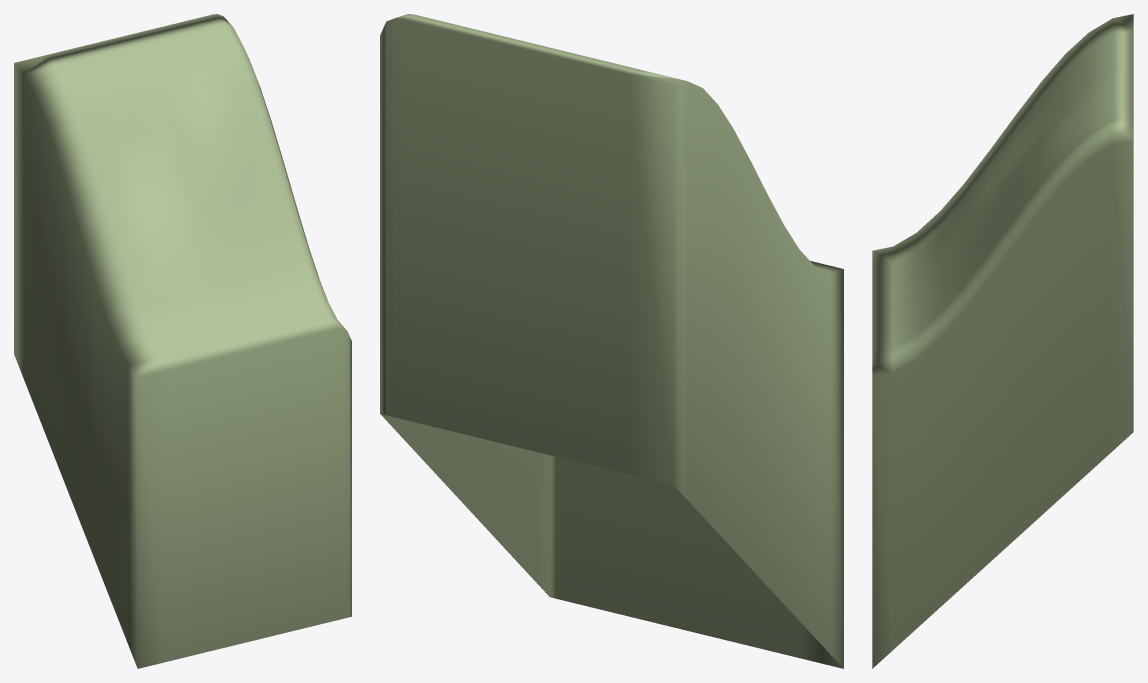
File: ground-ramp-r-01.glb
3 views of the same model, side by side, from view 1: azimuth 30°, elevation 25°; view 2: azimuth 150°, elevation 25°; view 3: azimuth 270°, elevation 25° (orthographic). The views are drawn at different scales.
Parts seen in each view (by area): view 1: ground-ramp-r-01; view 2: ground-ramp-r-01; view 3: ground-ramp-r-01.
Part boxes in pixels (left/top/right/bottom): ground-ramp-r-01: left=14, top=14, right=351, bottom=668; ground-ramp-r-01: left=380, top=14, right=843, bottom=668; ground-ramp-r-01: left=872, top=14, right=1133, bottom=668.
Size of the model in its own units: 1 by 2.3 by 1.
